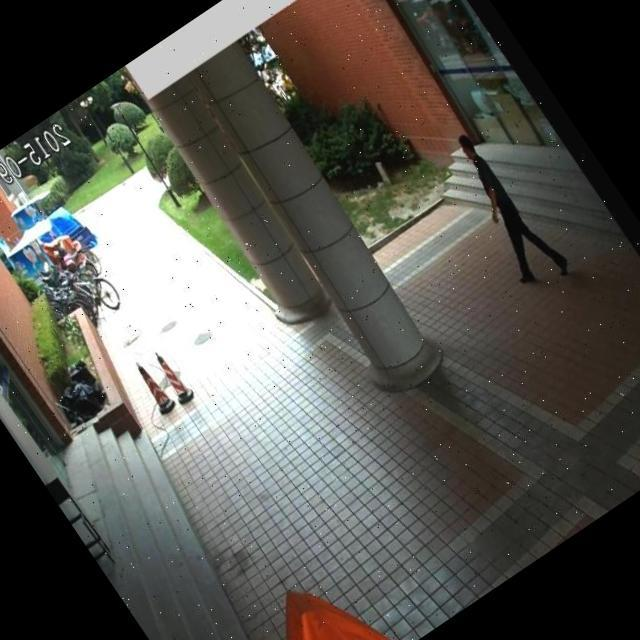person: (428, 115, 584, 308)
